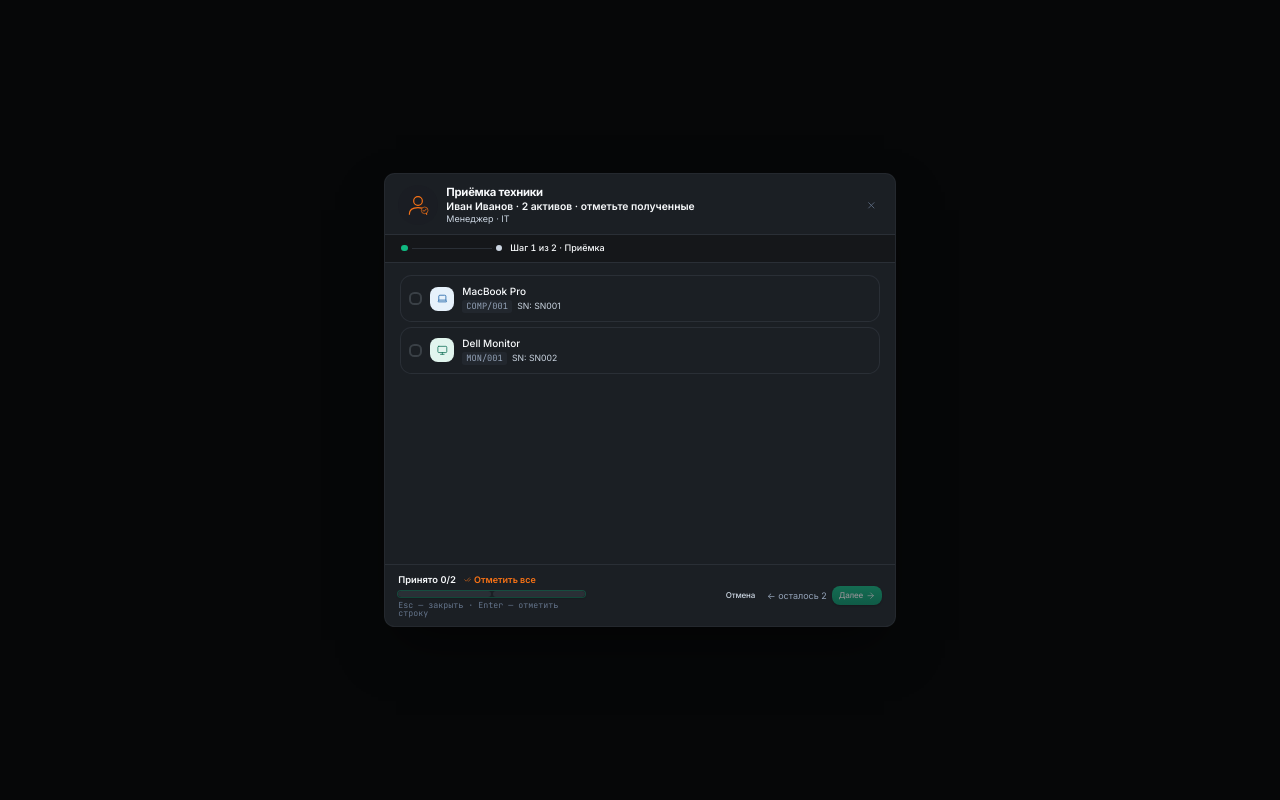
HandoverModal — step 1: receive › toggle-all a second time unchecks all rows (снять все)
This screenshot has width=1280, height=800.
# Check all
Step 1. Click the button "Отметить все" → (500, 580), box left=464, top=573, right=536, bottom=587
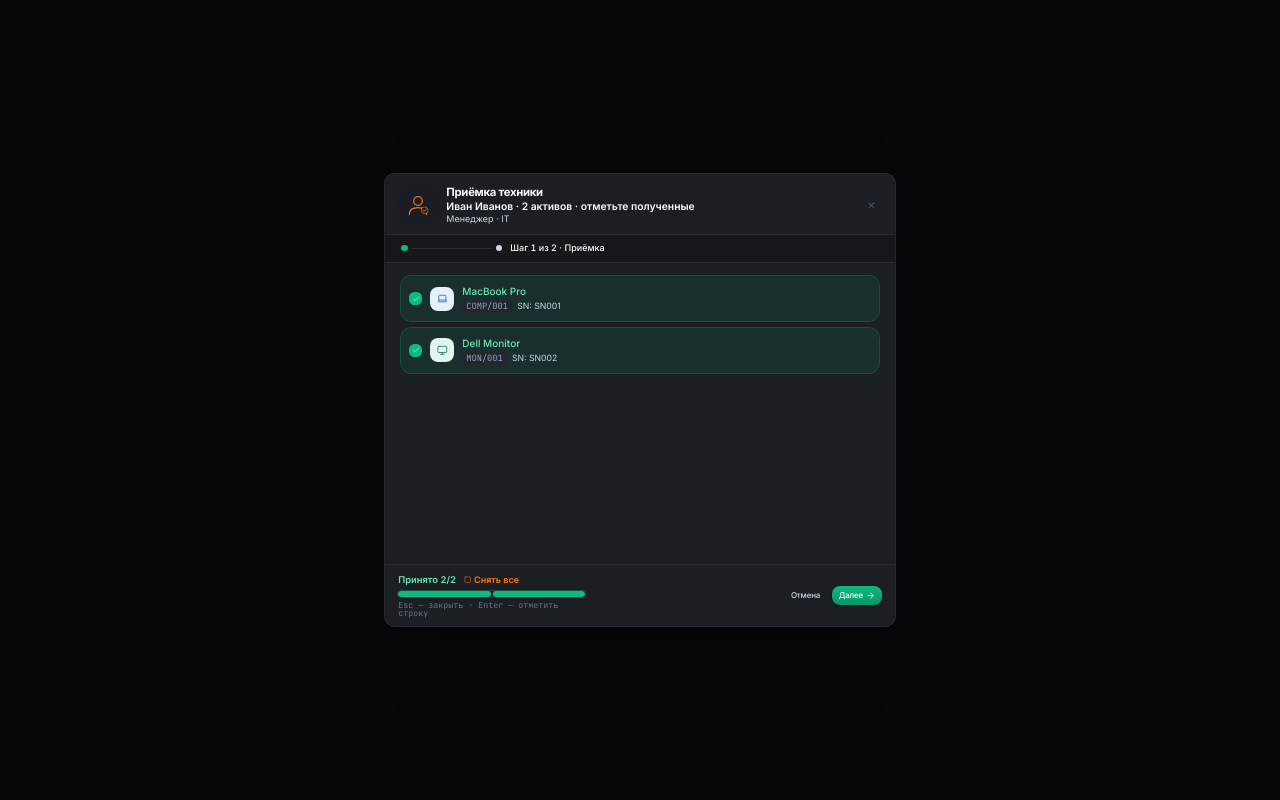
# Uncheck all — button label changes
Step 2. Click the button "Отметить все" → (492, 580), box left=464, top=573, right=519, bottom=587
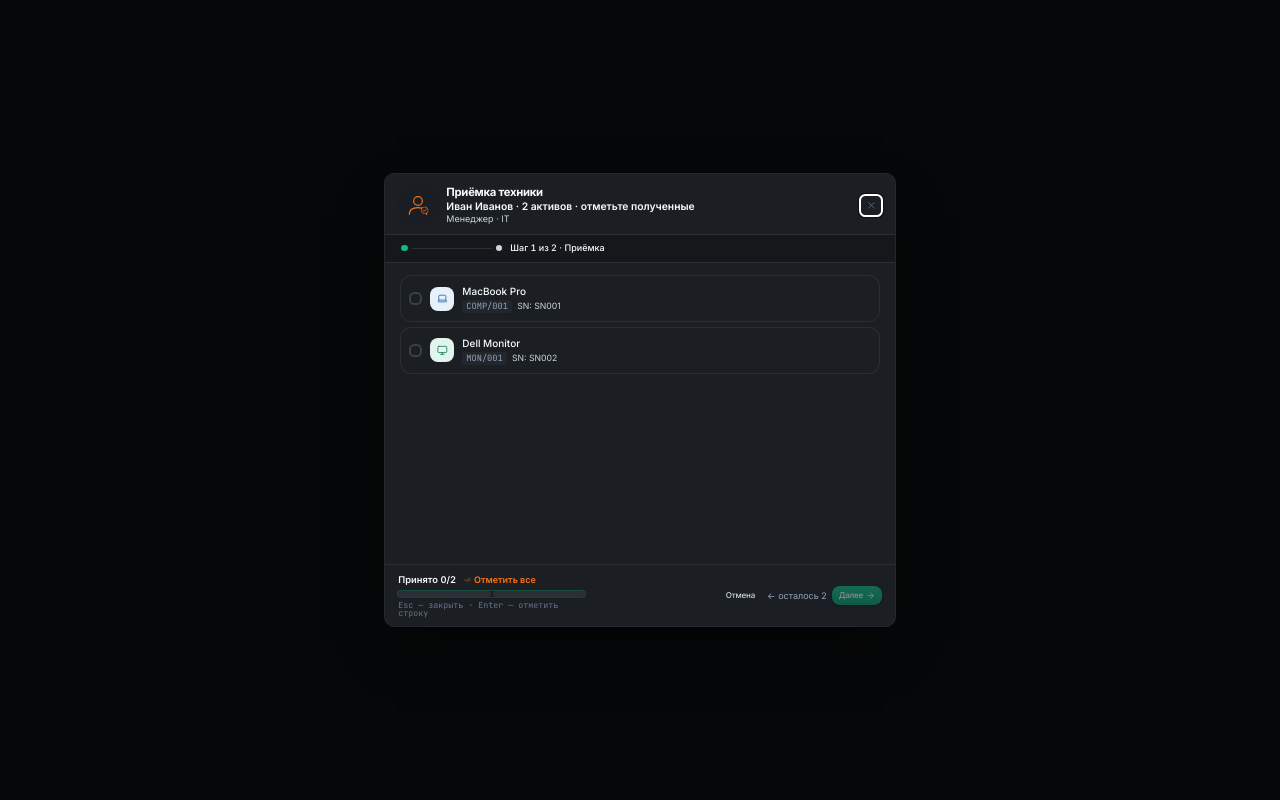
Expected: the button "Далее" is disabled, left=832, top=586, right=882, bottom=605
